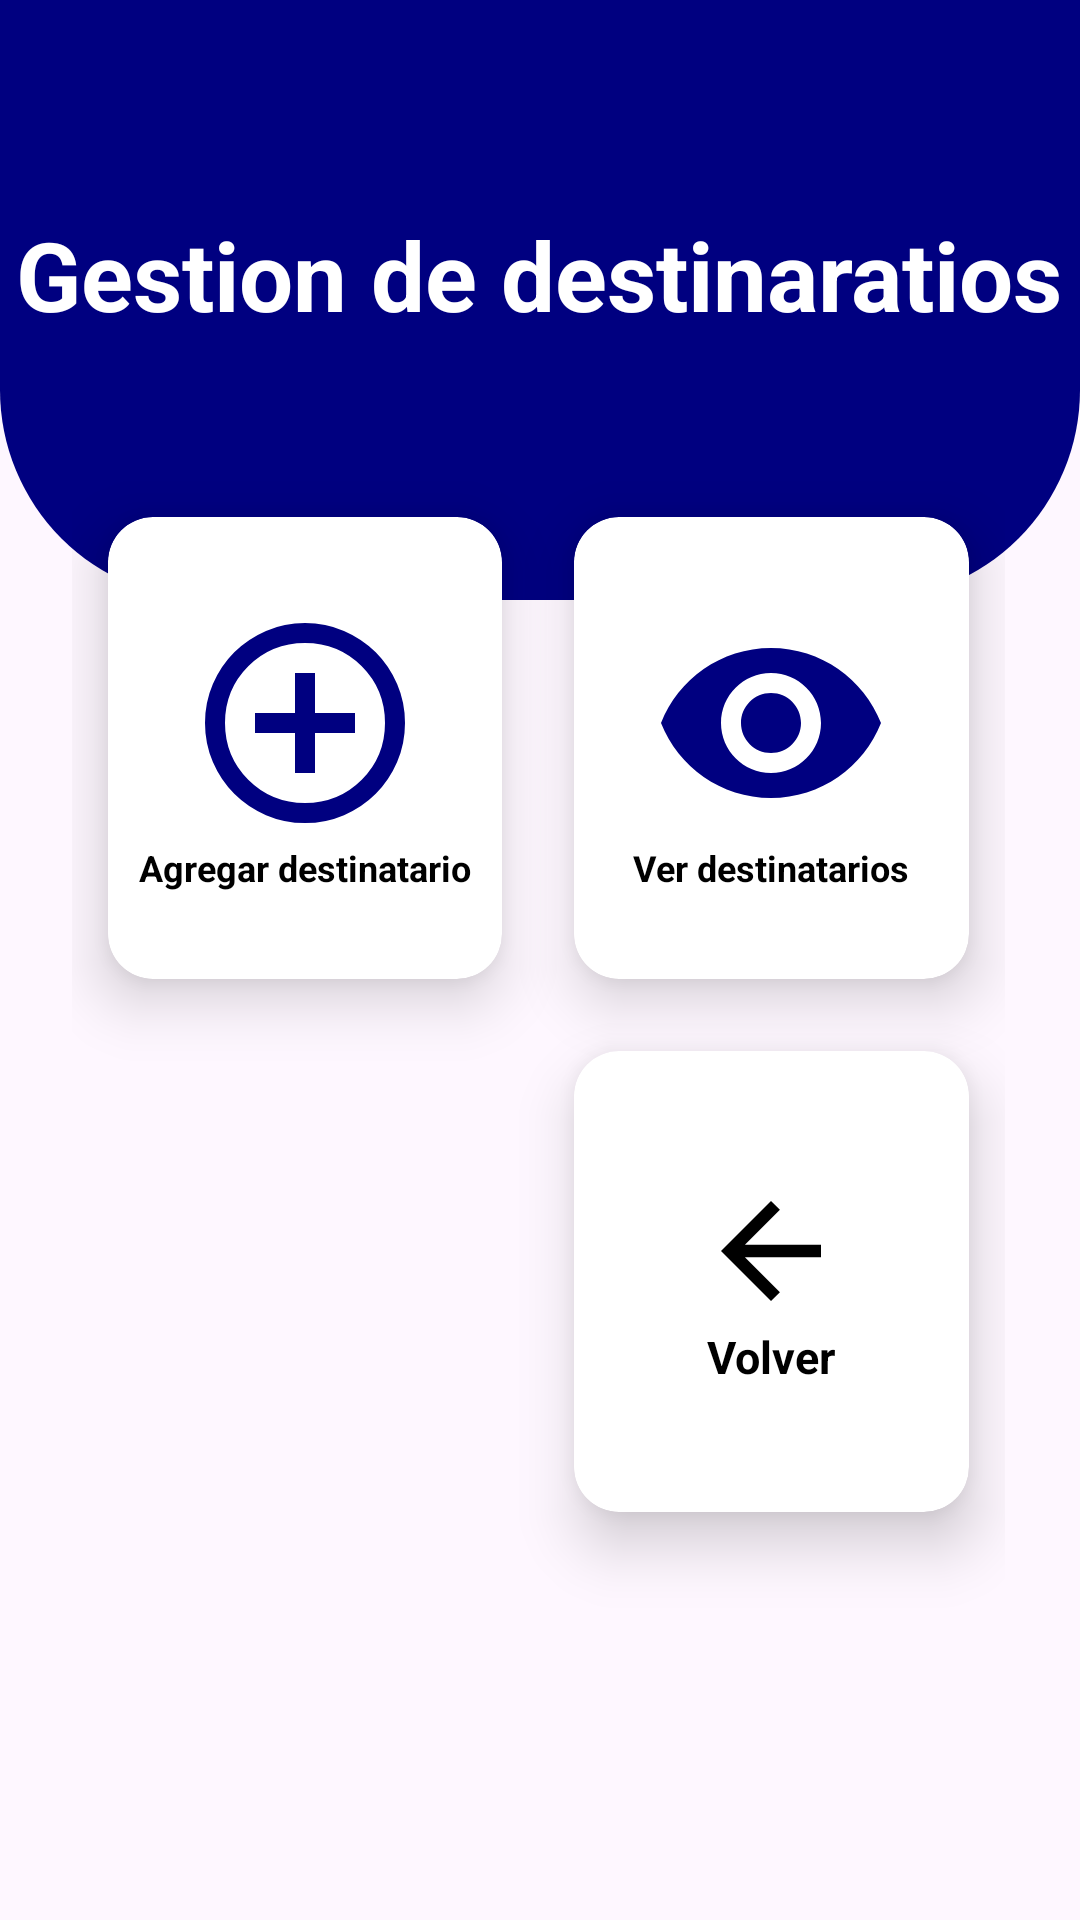

Named icons in this screenshot (1080 x 1920) and their centers, [x,y]:
ojo: [771,723]
